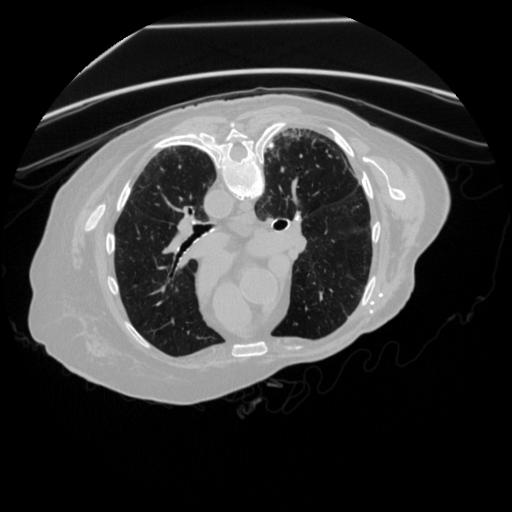nodule: (266, 142, 277, 153)
